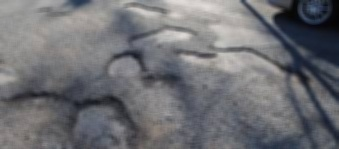pothole: (174, 44, 314, 83), (71, 95, 135, 148), (5, 92, 64, 143), (101, 46, 147, 84), (122, 27, 199, 44), (122, 0, 166, 19), (148, 68, 180, 90)
